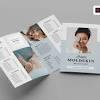paper: (0, 15, 100, 88)
